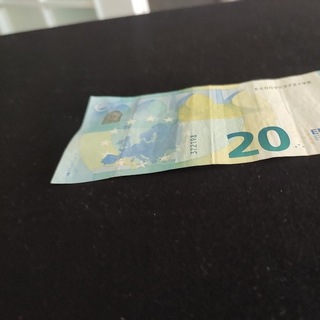20EUROBack: (49, 68, 320, 185)
